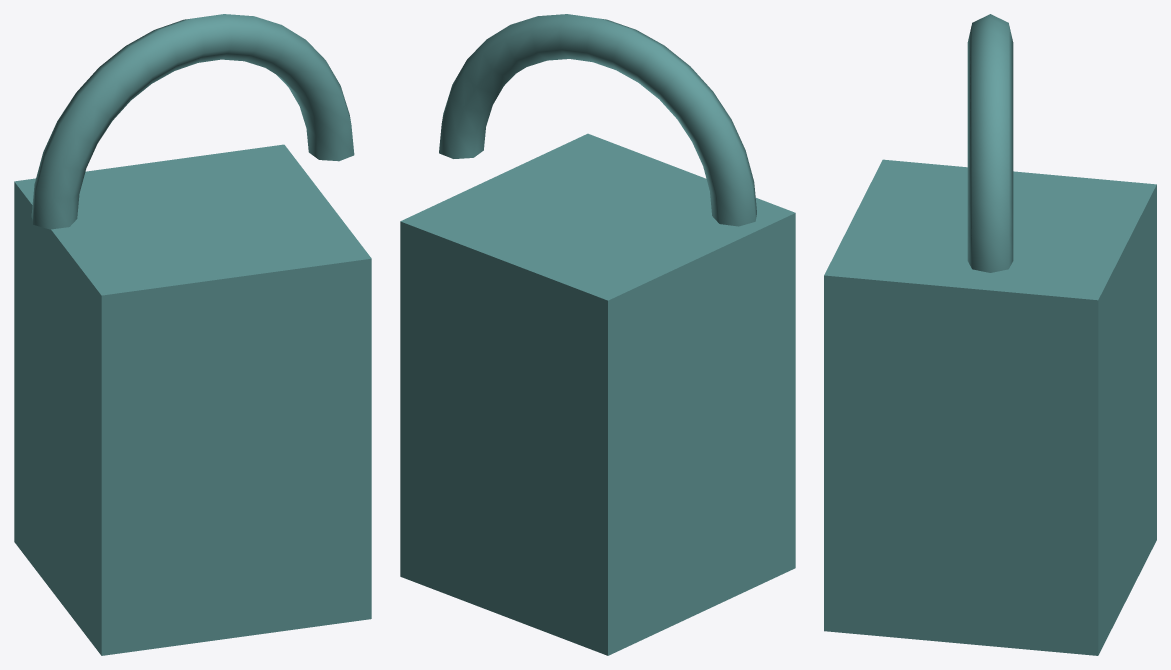
File: off_18_spirit_lantern.glb
3 views of the same model, side by side, from view 1: azimuth 30°, elevation 25°; view 2: azimuth 150°, elevation 25°; view 3: azimuth 270°, elevation 25° (orthographic).
Visible parts, largest first — view 1: lantern_frame, lantern_handle; view 2: lantern_frame, lantern_handle; view 3: lantern_frame, lantern_handle.
Part boxes in pixels (x1,y1,x2,y2): lantern_frame: (14, 144, 371, 655); lantern_handle: (31, 14, 354, 229); lantern_frame: (400, 133, 795, 655); lantern_handle: (439, 14, 756, 226); lantern_frame: (824, 159, 1156, 655); lantern_handle: (967, 14, 1013, 272).
Size of the model in its own units: 0.39 by 0.655 by 0.3561.
